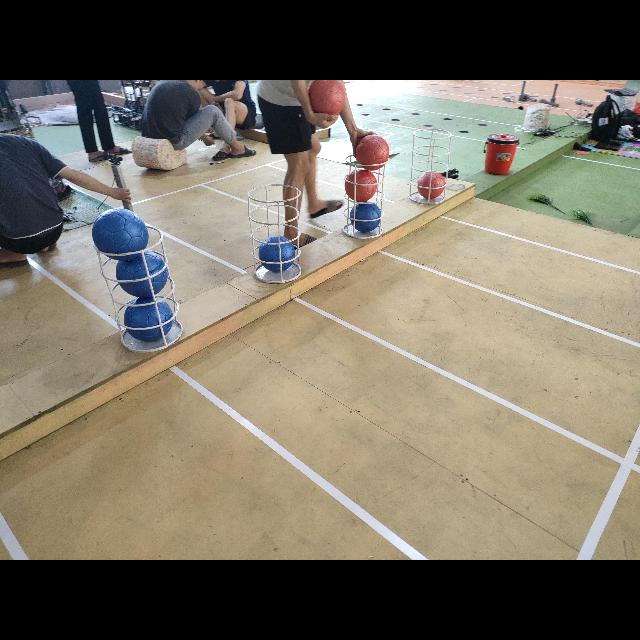B: (92, 209, 148, 259), (116, 257, 168, 297), (124, 300, 172, 340), (258, 235, 296, 272), (351, 202, 381, 232)
R: (356, 134, 390, 170), (345, 170, 377, 202), (418, 171, 444, 199)
